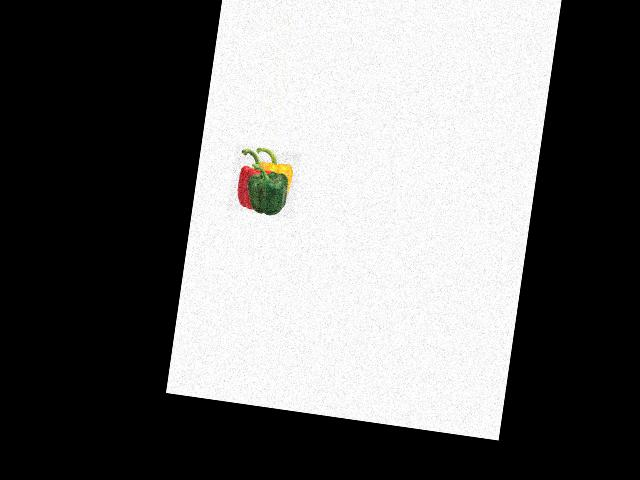bell_pepper: (227, 146, 273, 212)
